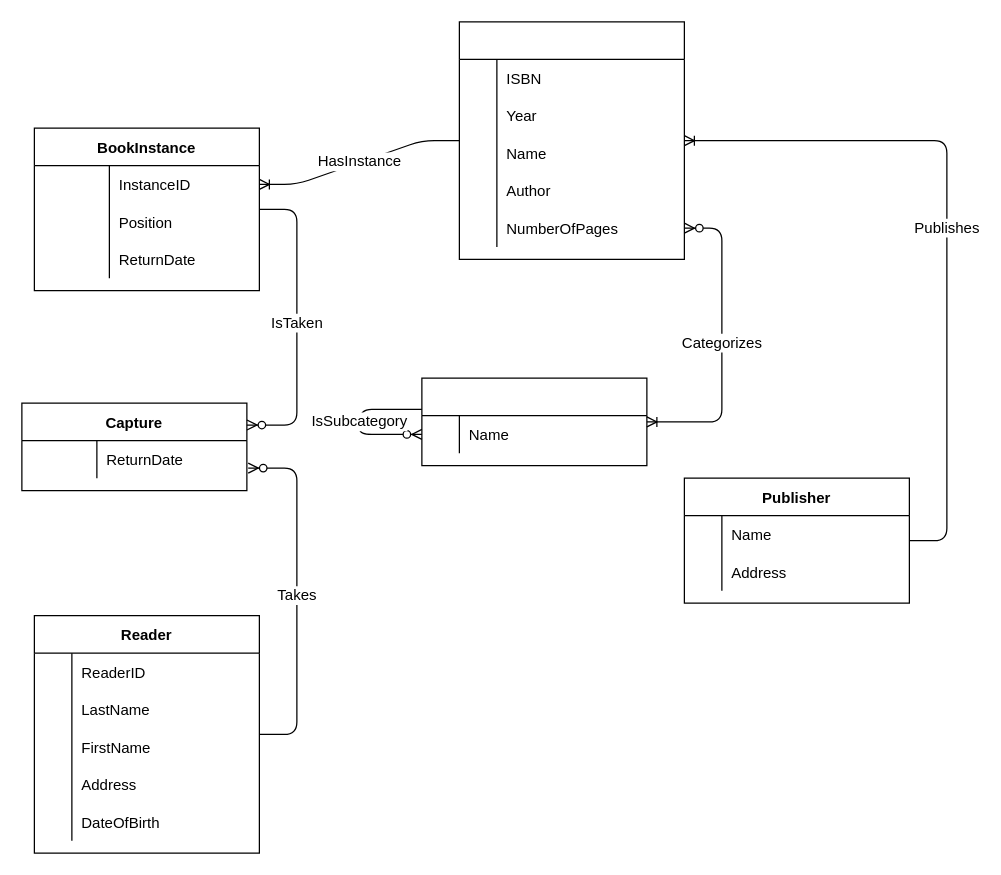
Image size: 1001x875. Some labels were removed from this diagram. Here are the shapes that lost their labels. From the top down, the box of each, then its label:
(458, 21, 684, 259): BookPublication
(421, 377, 647, 466): Category
